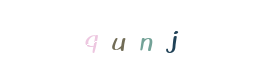J: (133, 0, 213, 80)
N: (96, 0, 176, 80)
Q: (81, 0, 161, 80)
U: (94, 0, 174, 80)
